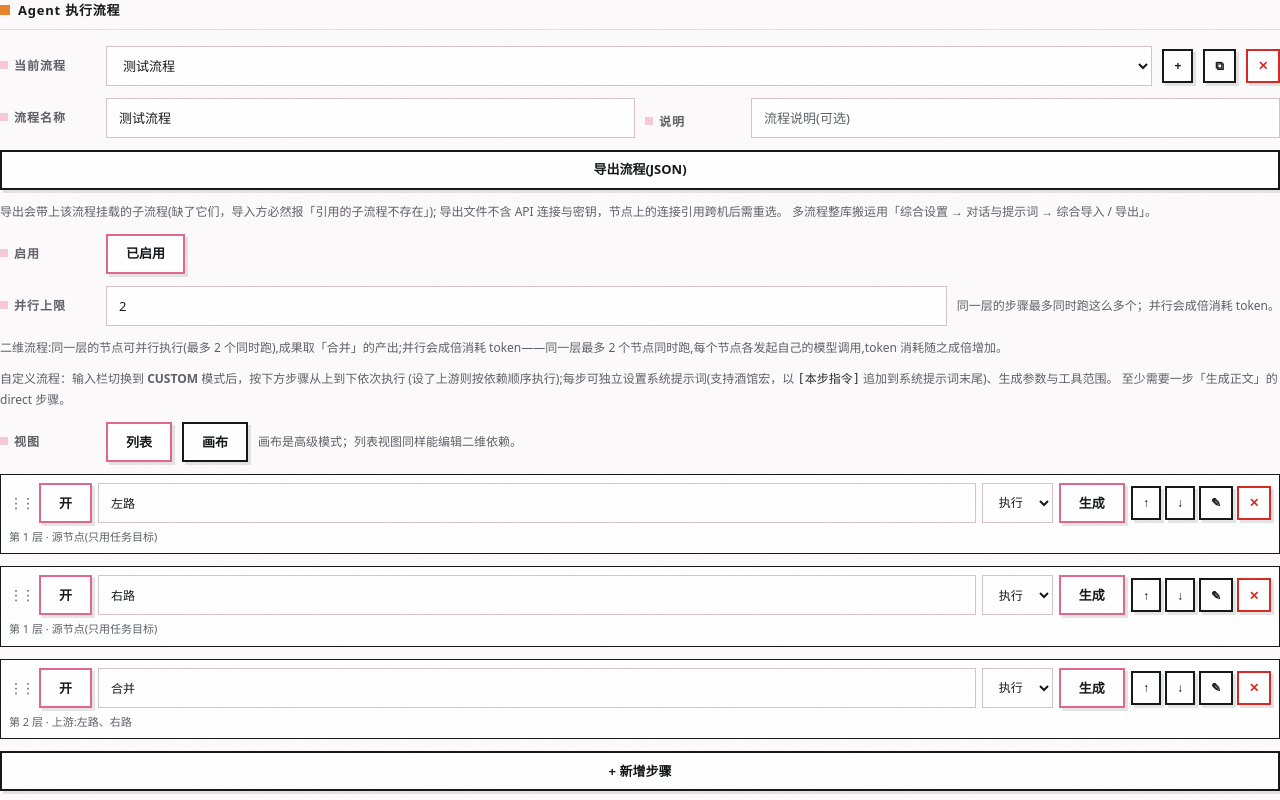
it: AgentFlowSection 列表编辑未因抽取共用组件而回归 › 展开编辑区仍有上游勾选与成果标注,取消勾选写回草稿
Click the 3rd button titled "编辑详情" at (1216,688), box x1=1199 y1=671 x2=1233 y2=705
(page scrolled)
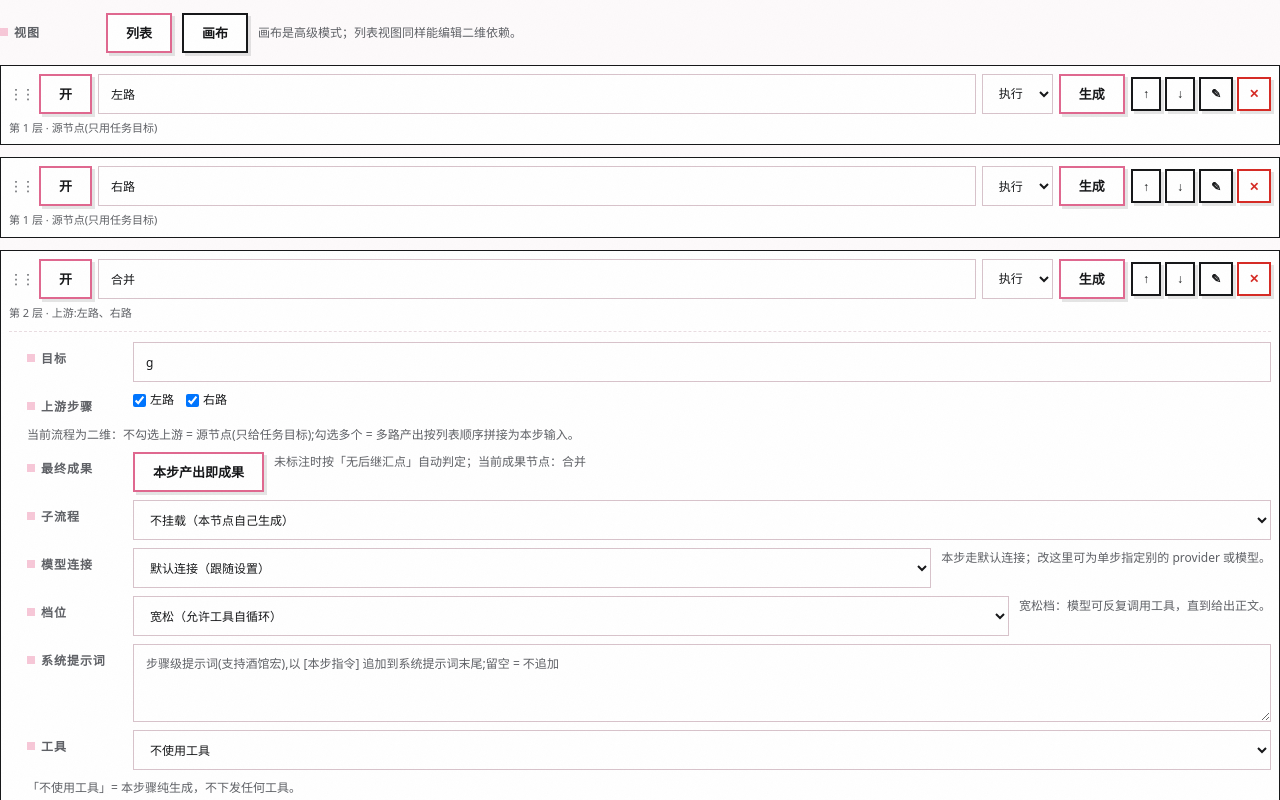
Expected: the text "上游步骤" is shown, x1=27 y1=390 x2=123 y2=417
Expected: the text "本步产出即成果" is shown, x1=133 y1=452 x2=264 y2=492
Click the checkbox labelled "左路" at (140,400), box x1=133 y1=394 x2=146 y2=407
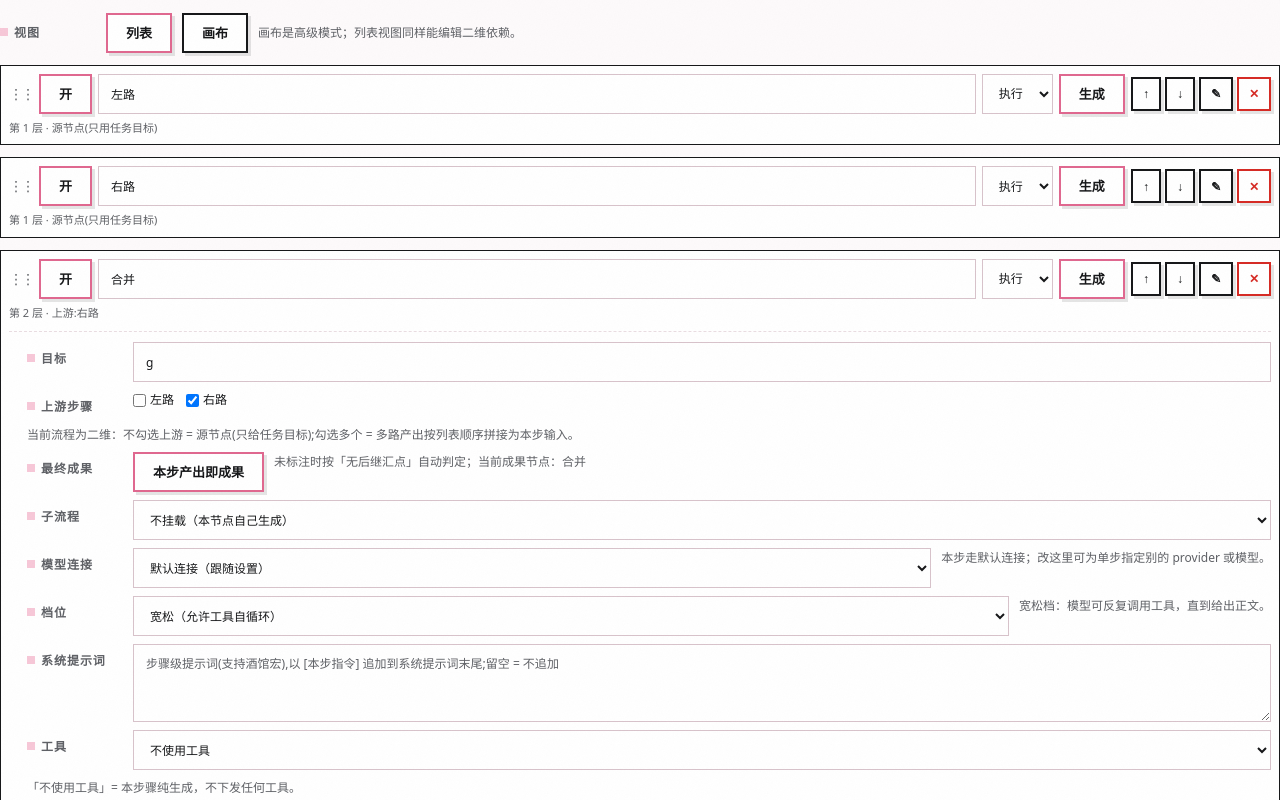
Expected: the text "上游:右路" is shown, x1=9 y1=305 x2=99 y2=320
